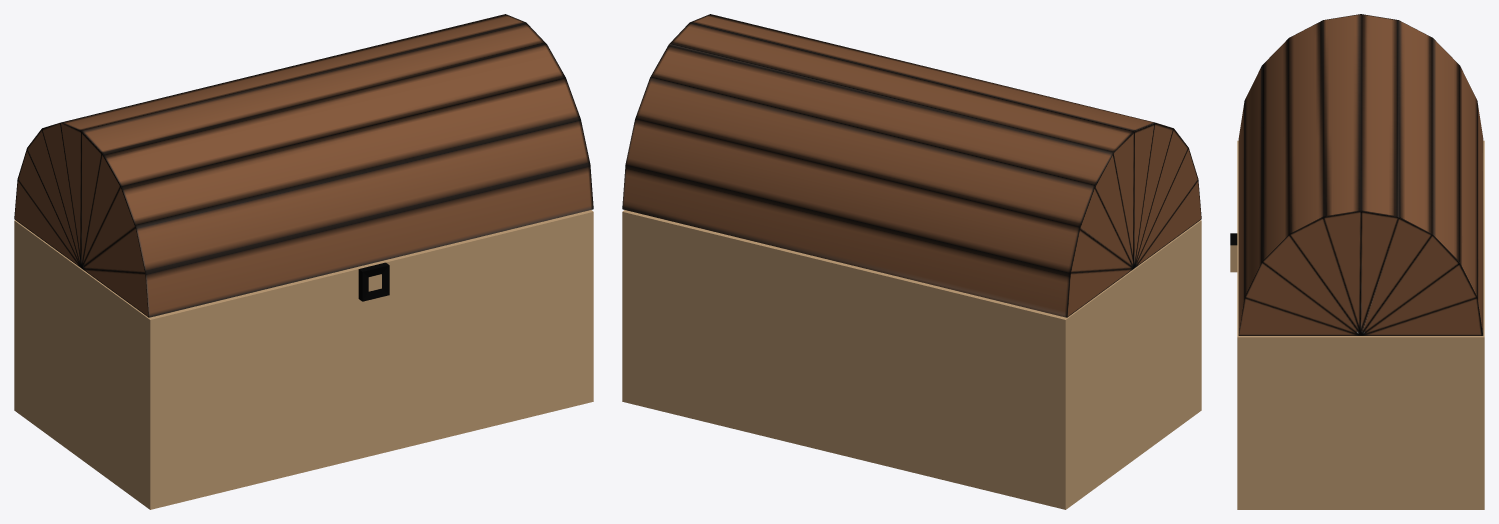
File: chest.fbx
3 views of the same model, side by side, from view 1: azimuth 30°, elevation 25°; view 2: azimuth 150°, elevation 25°; view 3: azimuth 270°, elevation 25° (orthographic). The views are drawn at different scales.
Visible parts, largest first — view 1: pCube1, pCylinder1; view 2: pCube1, pCylinder1; view 3: pCylinder1, pCube1.
Part boxes in pixels (x1=…): pCube1: x1=14, y1=210, x2=593, y2=509; pCylinder1: x1=14, y1=14, x2=593, y2=317; pCube1: x1=622, y1=210, x2=1201, y2=509; pCylinder1: x1=622, y1=14, x2=1201, y2=317; pCylinder1: x1=1238, y1=14, x2=1483, y2=335; pCube1: x1=1230, y1=140, x2=1484, y2=509.
Size of the model in its own units: 16.81 by 11.89 by 9.15.
